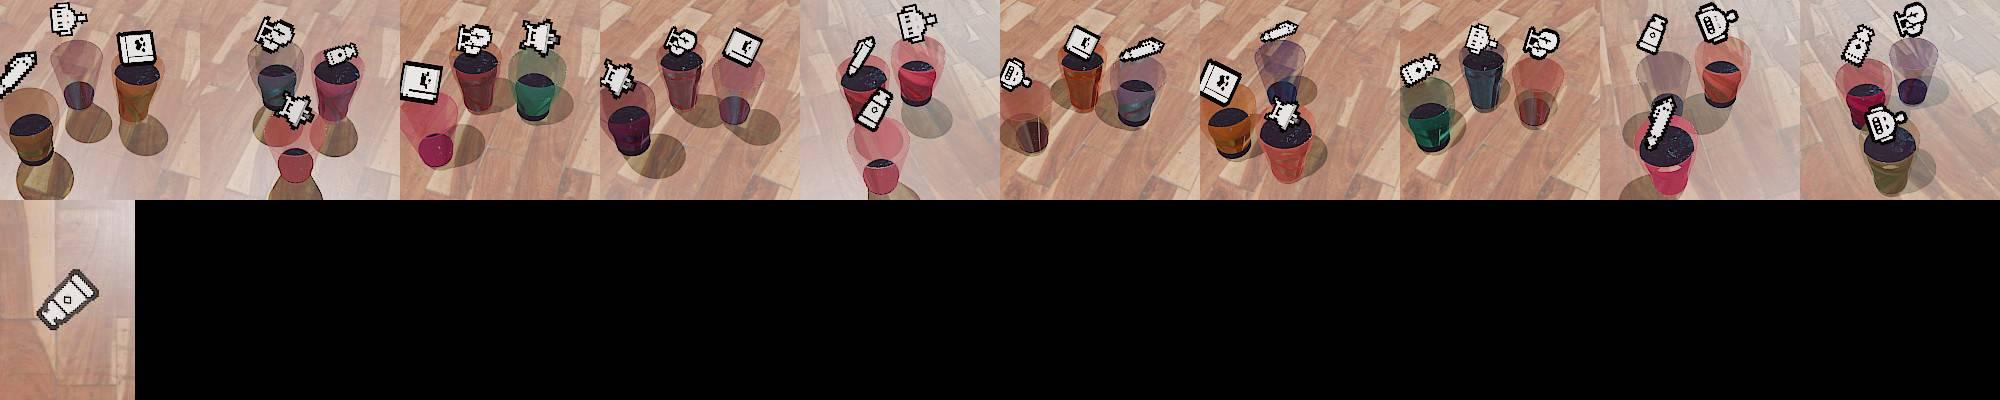icon: (34, 268, 100, 332), (1198, 58, 1241, 106), (1693, 2, 1738, 46), (1644, 94, 1678, 151), (399, 61, 444, 104), (854, 86, 894, 134), (0, 50, 37, 100), (721, 27, 764, 68), (895, 3, 937, 44), (519, 18, 561, 58), (1063, 22, 1101, 63), (116, 29, 157, 66), (1401, 51, 1441, 88), (276, 92, 316, 129), (1637, 12, 1670, 56), (1841, 23, 1874, 67), (255, 16, 295, 52), (846, 35, 877, 81), (599, 59, 636, 97), (1522, 25, 1562, 60), (1866, 107, 1902, 144), (49, 2, 87, 37), (662, 25, 700, 58), (1119, 37, 1165, 64), (456, 23, 493, 56), (1895, 3, 1928, 39), (1267, 97, 1302, 130), (1000, 57, 1031, 91), (320, 42, 358, 69), (1259, 18, 1298, 44), (1465, 23, 1492, 54)
